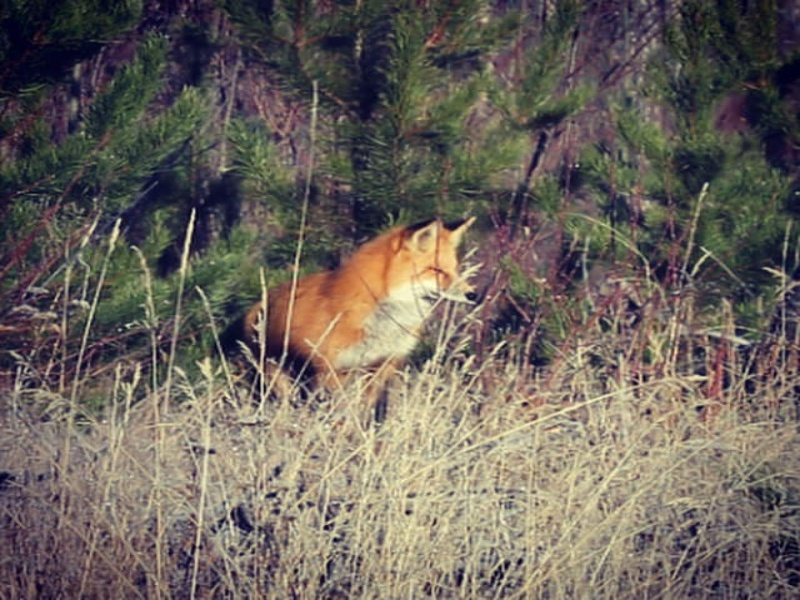fox: (232, 208, 484, 426)
